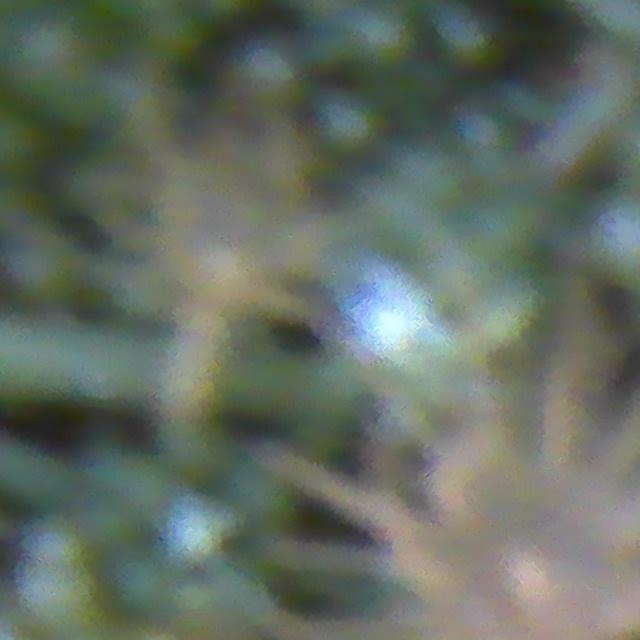SeaGrape: (0, 3, 102, 114), (341, 0, 418, 73), (20, 553, 93, 626), (314, 92, 378, 155), (27, 521, 95, 577)
